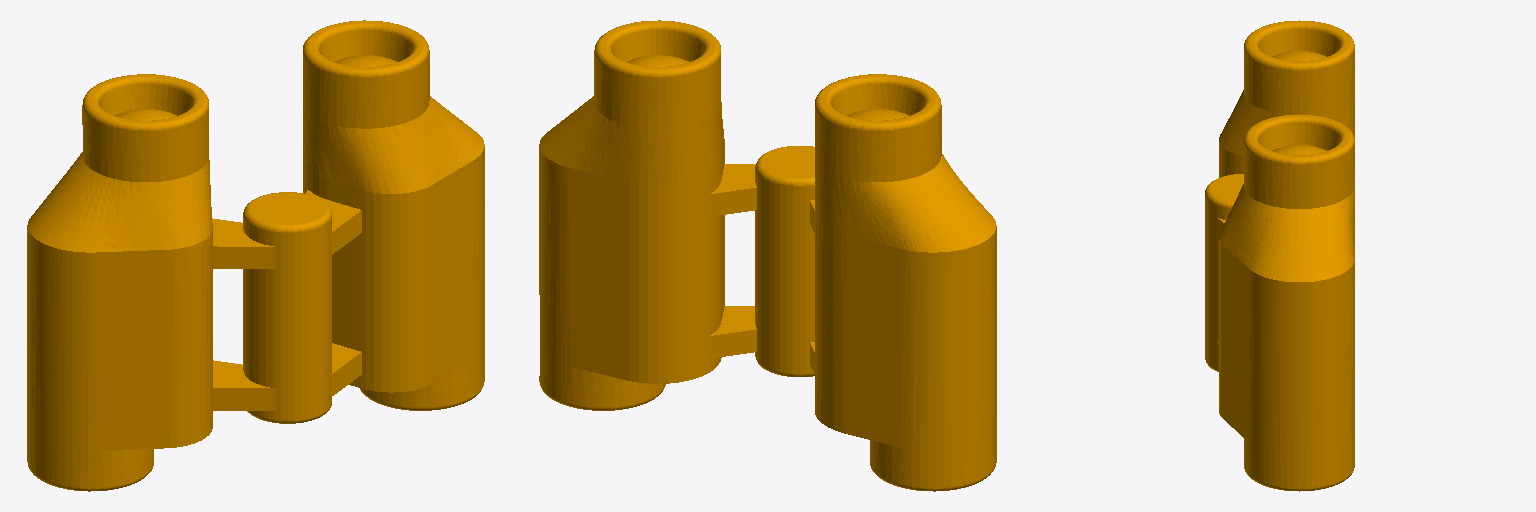
The robot description file, URDF, robot "object":
<?xml version="1.0"?>
<robot name="object">
  <link name="object">
    <visual>
      <origin xyz="0.0 0.0 0.0"/>
      <geometry>
        <mesh filename="binoculars.stl" scale="1.00 1.00 1.00"/>
      </geometry>
    </visual>
    <collision>
      <origin xyz="0.0 0.0 0.0"/>
      <geometry>
        <mesh filename="binoculars.stl" scale="1.00 1.00 1.00"/>
      </geometry>
    </collision>
  </link>
</robot>
    
                    

--- Render facts (derived) ---
Views: 3 orthographic renders of the robot side by side, from view 1: azimuth 30°, elevation 25°; view 2: azimuth 150°, elevation 25°; view 3: azimuth 270°, elevation 25°.
Robot: object — 1 links, 0 joints (none); root link object; default pose: all joints at 0.
Visible links, largest first — view 1: object; view 2: object; view 3: object.
Boxes of the visible links, box(x1,y1,x2,y2) form: object: box(27, 20, 484, 491); object: box(539, 20, 996, 491); object: box(1205, 20, 1354, 491).
Size in the robot's own frame: 0.142 by 0.0479 by 0.1093 metres.
1 mesh visuals loaded from 1 distinct referenced files (1 binary STL).
